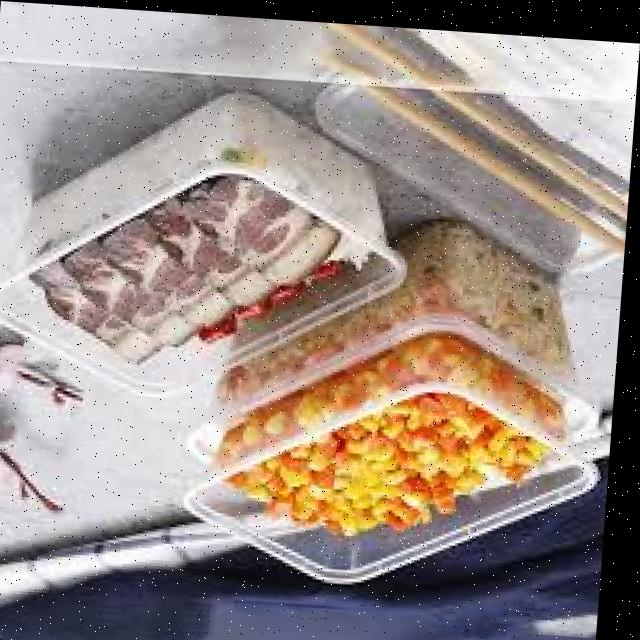disposable: (0, 63, 393, 423), (181, 320, 597, 595)
